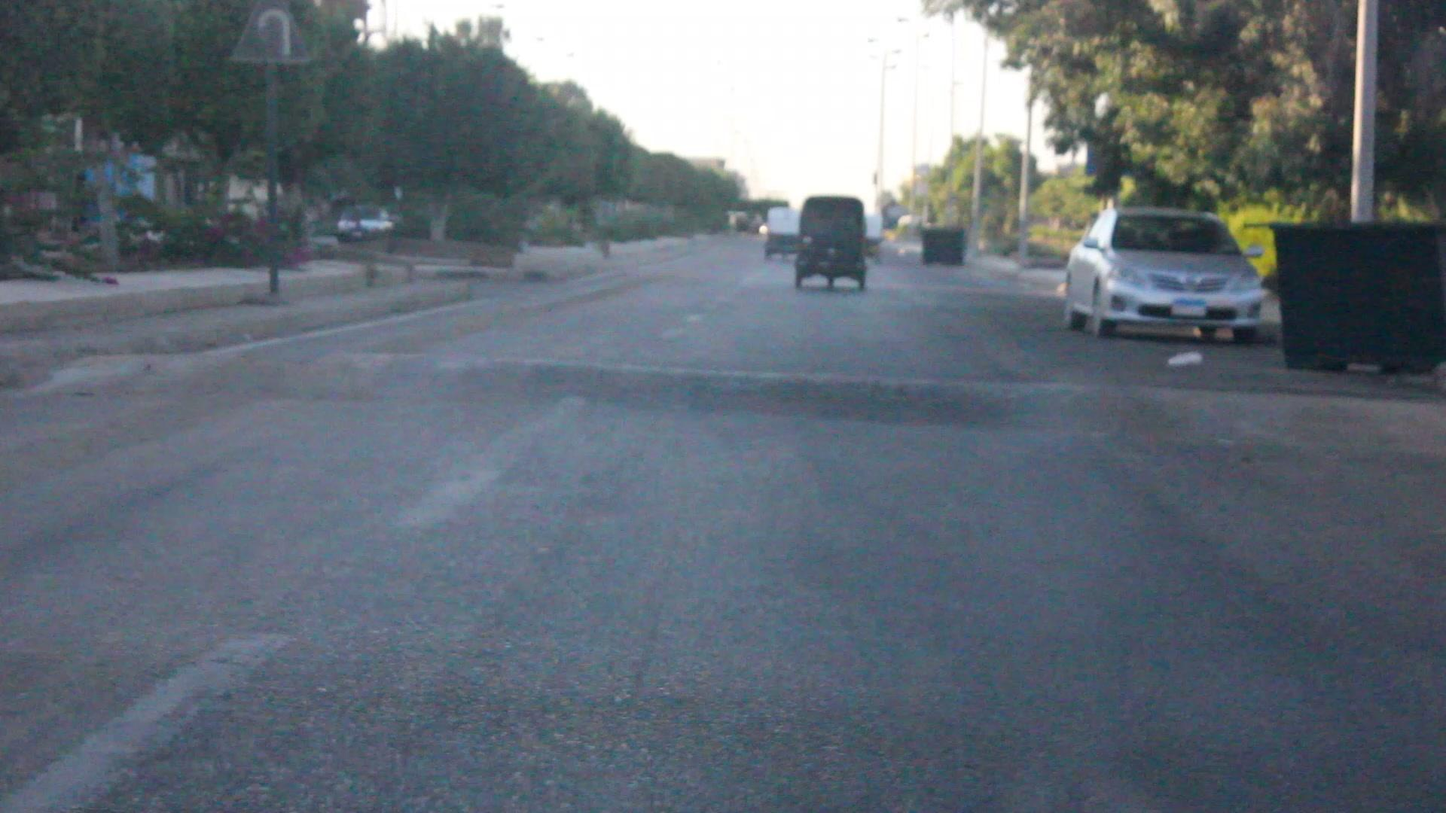Bump: (90, 346, 1446, 482)
